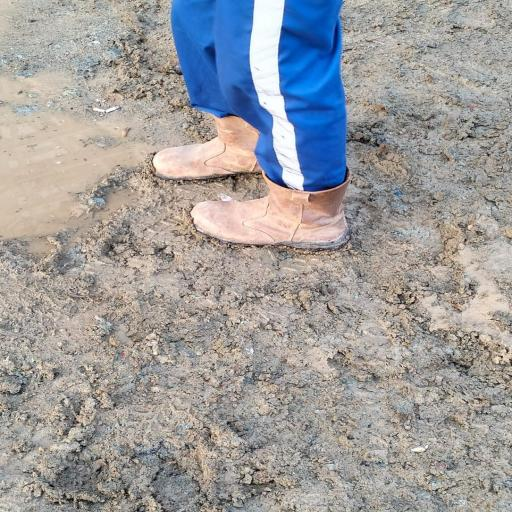safety_shoe: (190, 170, 355, 252), (142, 112, 274, 180)
